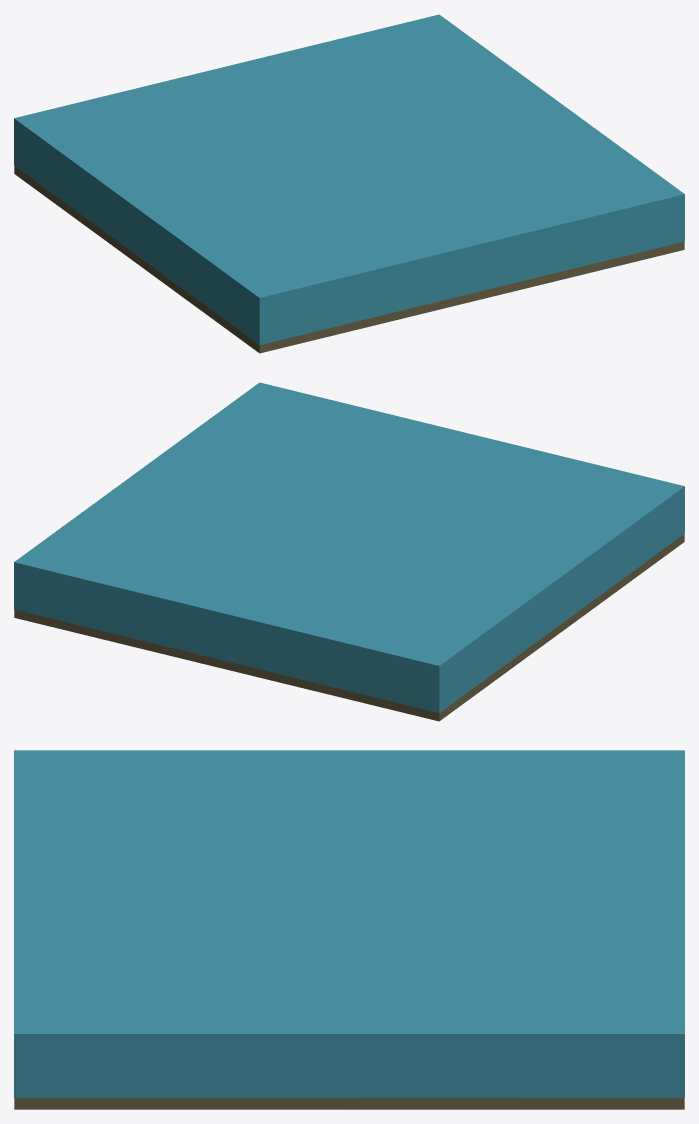
The model's file is Environment_Lakeside_WaterTile8m_001.glb.
3 renders of one model, top to bottom at view 1: azimuth 30°, elevation 25°; view 2: azimuth 150°, elevation 25°; view 3: azimuth 270°, elevation 25°, orthographic. The views are drawn at different scales.
Visible parts, largest first — view 1: LK_LakeWater8m_Body; view 2: LK_LakeWater8m_Body; view 3: LK_LakeWater8m_Body.
Boxes of the visible parts, x1,y1,x2,y2 form: LK_LakeWater8m_Body: (14,14,684,353); LK_LakeWater8m_Body: (14,382,684,721); LK_LakeWater8m_Body: (14,750,684,1109).
Bounding box in the file's own units: 8 × 1 × 8.
